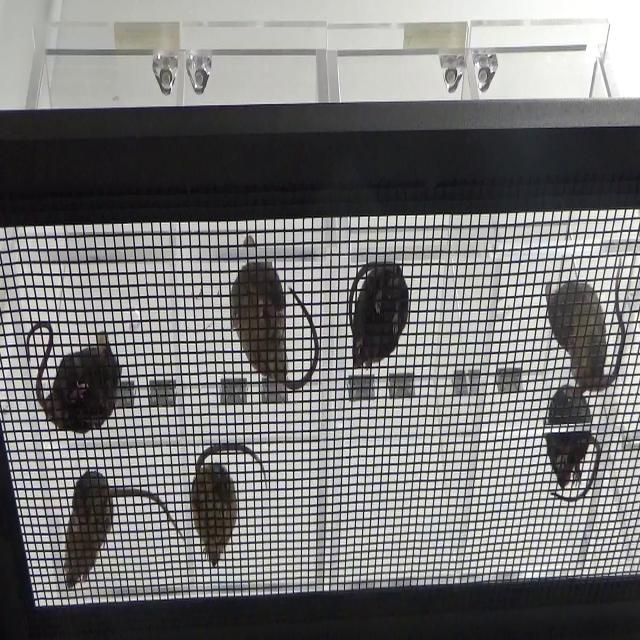lick claw: (546, 273, 633, 409)
